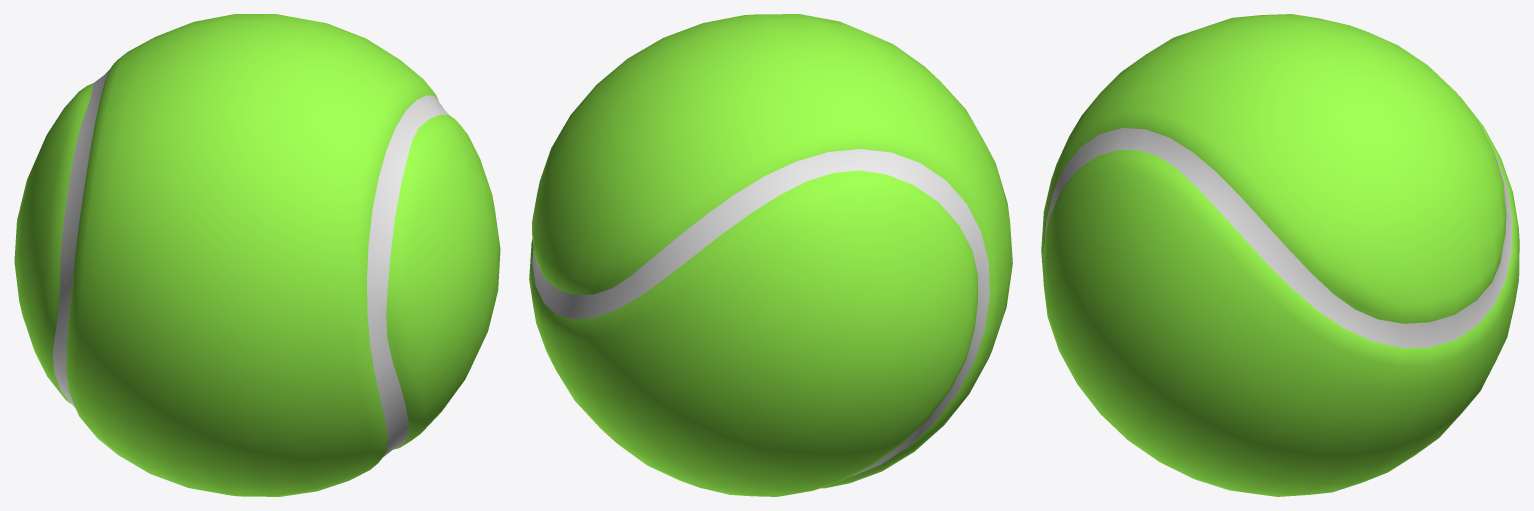
File: TennisBat.fbx
The picture shows the model from 3 angles, left to right: view 1: azimuth 30°, elevation 25°; view 2: azimuth 150°, elevation 25°; view 3: azimuth 270°, elevation 25°; orthographic projection.
Parts seen in each view (by area): view 1: tennis_ball, tennis_ball.001; view 2: tennis_ball, tennis_ball.001; view 3: tennis_ball, tennis_ball.001.
Part boxes in pixels (x1,y1,x2,y2): tennis_ball: (14,14,500,496); tennis_ball.001: (52,69,449,456); tennis_ball: (529,14,1012,496); tennis_ball.001: (532,149,989,475); tennis_ball: (1041,14,1519,496); tennis_ball.001: (1045,128,1512,347).
Bounding box in the file's own units: 6.73 × 6.74 × 6.71.
